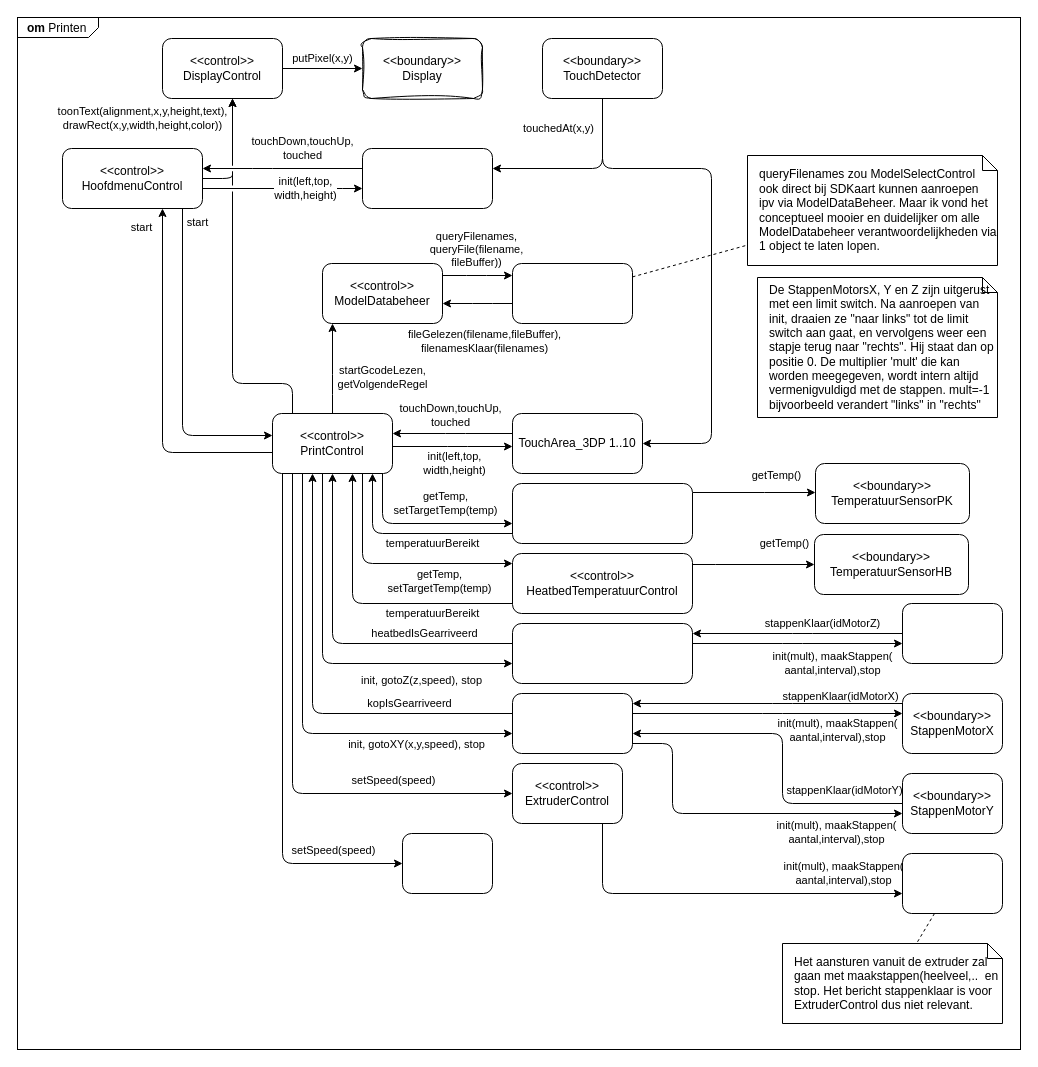
The diagram is 1038 pixels wide and 1067 high, and some of its shapes have lost their labels. The shapes that lost their labels are listed below. From the top down, each one's box as (x1, y1, x2, y2) in pixels, then its label:
(362, 148, 492, 208): TouchArea_HMN 1..3
(512, 262, 632, 324): <<boundary>> SDKaart
(512, 482, 692, 544): <<control>> PrintkopTemperatuurControl
(512, 622, 692, 684): <<control>> HeatbedHoogteControl
(902, 602, 1002, 664): <<boundary>> StappenMotorZ
(512, 692, 632, 754): <<control>> PrintkopXYControl
(402, 832, 492, 894): <<boundary>> Ventilator
(902, 852, 1002, 914): <<boundary>> StappenMotorEx
